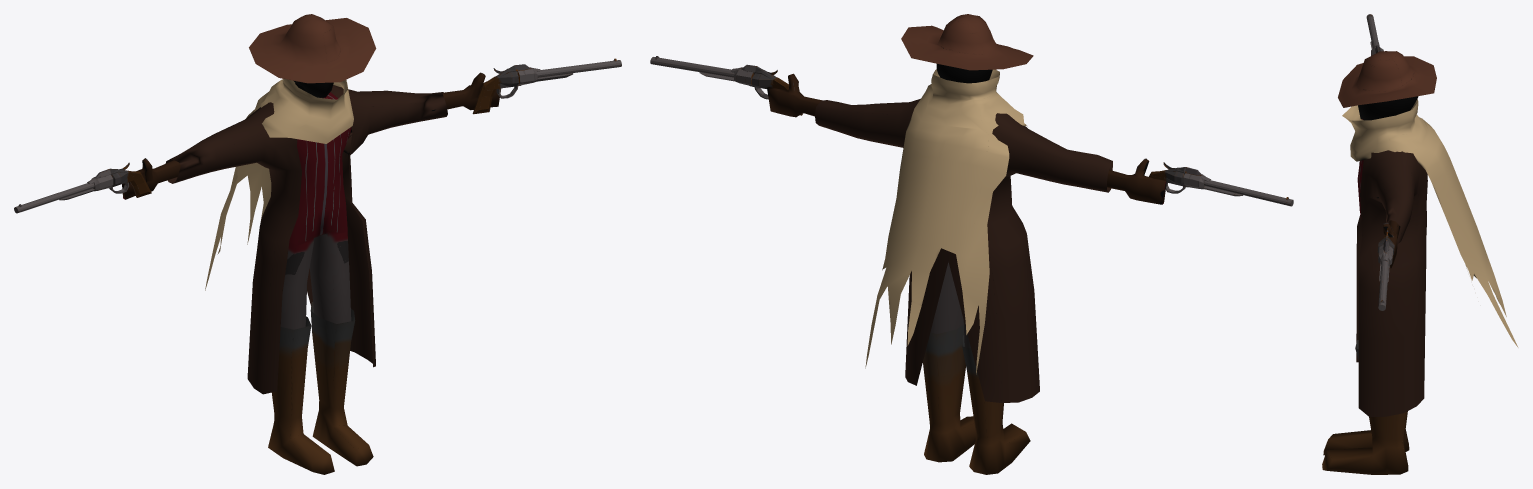
The model's file is gunslinger.obj.
3 renders of one model, left to right at view 1: azimuth 30°, elevation 25°; view 2: azimuth 150°, elevation 25°; view 3: azimuth 270°, elevation 25°, orthographic. The views are drawn at different scales.
Parts seen in each view (by area): view 1: Gunslinger_Clothing_Cube.004, Default_Body_Cube.003, Boots_Cube.008, Hat_Cube.005, Shemagh_Cube.009, Revolver_Model_Cube.006, Revolver_Model.001_Cube.007; view 2: Shemagh_Cube.009, Gunslinger_Clothing_Cube.004, Boots_Cube.008, Default_Body_Cube.003, Hat_Cube.005, Revolver_Model_Cube.006, Revolver_Model.001_Cube.007; view 3: Gunslinger_Clothing_Cube.004, Shemagh_Cube.009, Boots_Cube.008, Hat_Cube.005, Default_Body_Cube.003, Revolver_Model_Cube.006, Revolver_Model.001_Cube.007.
Part boxes in pixels (bbox=[...]): Gunslinger_Clothing_Cube.004: bbox=[165, 85, 447, 394]; Default_Body_Cube.003: bbox=[122, 72, 501, 329]; Boots_Cube.008: bbox=[268, 302, 373, 474]; Hat_Cube.005: bbox=[249, 14, 376, 83]; Shemagh_Cube.009: bbox=[205, 78, 353, 290]; Revolver_Model_Cube.006: bbox=[472, 58, 621, 114]; Revolver_Model.001_Cube.007: bbox=[14, 162, 151, 213]; Shemagh_Cube.009: bbox=[865, 69, 1027, 374]; Gunslinger_Clothing_Cube.004: bbox=[815, 98, 1112, 402]; Boots_Cube.008: bbox=[923, 324, 1030, 474]; Default_Body_Cube.003: bbox=[767, 48, 1166, 348]; Hat_Cube.005: bbox=[901, 14, 1033, 70]; Revolver_Model_Cube.006: bbox=[650, 56, 802, 115]; Revolver_Model.001_Cube.007: bbox=[1149, 162, 1293, 206]; Gunslinger_Clothing_Cube.004: bbox=[1356, 150, 1427, 416]; Shemagh_Cube.009: bbox=[1342, 99, 1518, 347]; Boots_Cube.008: bbox=[1322, 340, 1409, 474]; Hat_Cube.005: bbox=[1338, 51, 1436, 107]; Default_Body_Cube.003: bbox=[1357, 79, 1418, 268]; Revolver_Model_Cube.006: bbox=[1377, 228, 1394, 310]; Revolver_Model.001_Cube.007: bbox=[1366, 14, 1383, 55].
Bounding box in the file's own units: 8.32 × 5.56 × 2.43.
8 materials, 8 textured.
